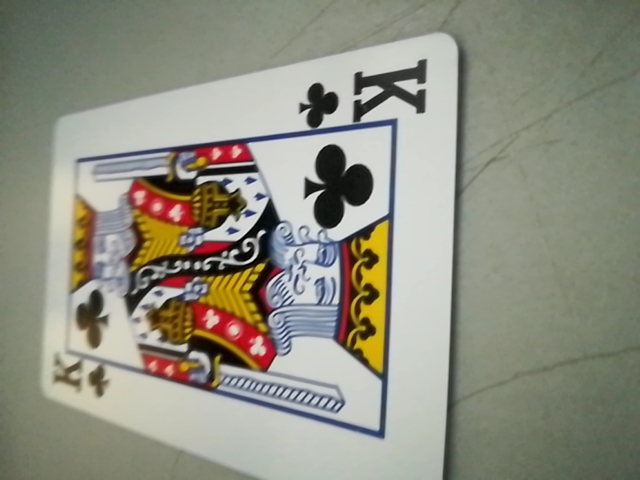mh k: (294, 57, 439, 133), (41, 342, 110, 402)
